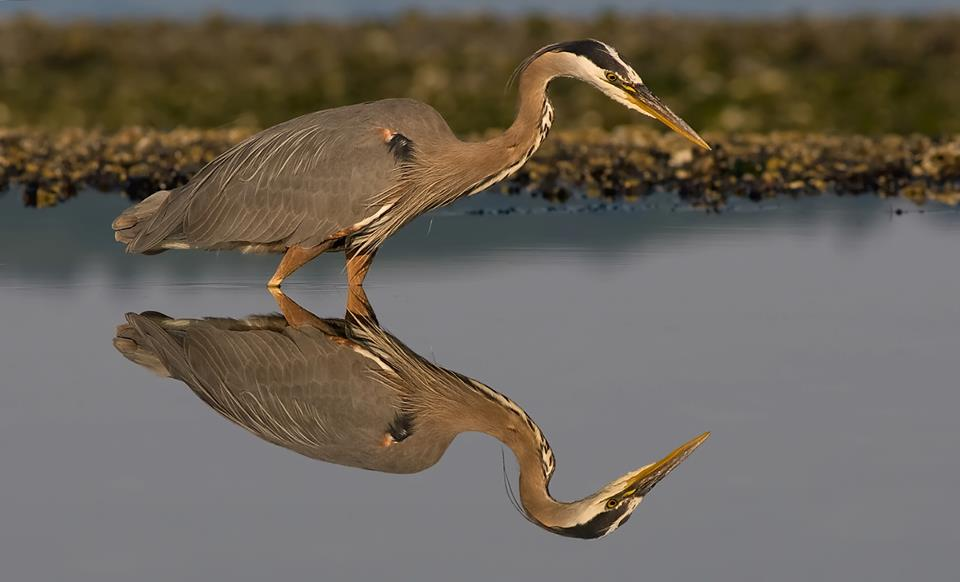heron: (97, 34, 716, 290)
